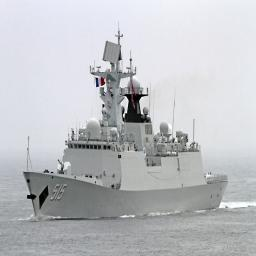Fragata: (23, 25, 231, 223)
